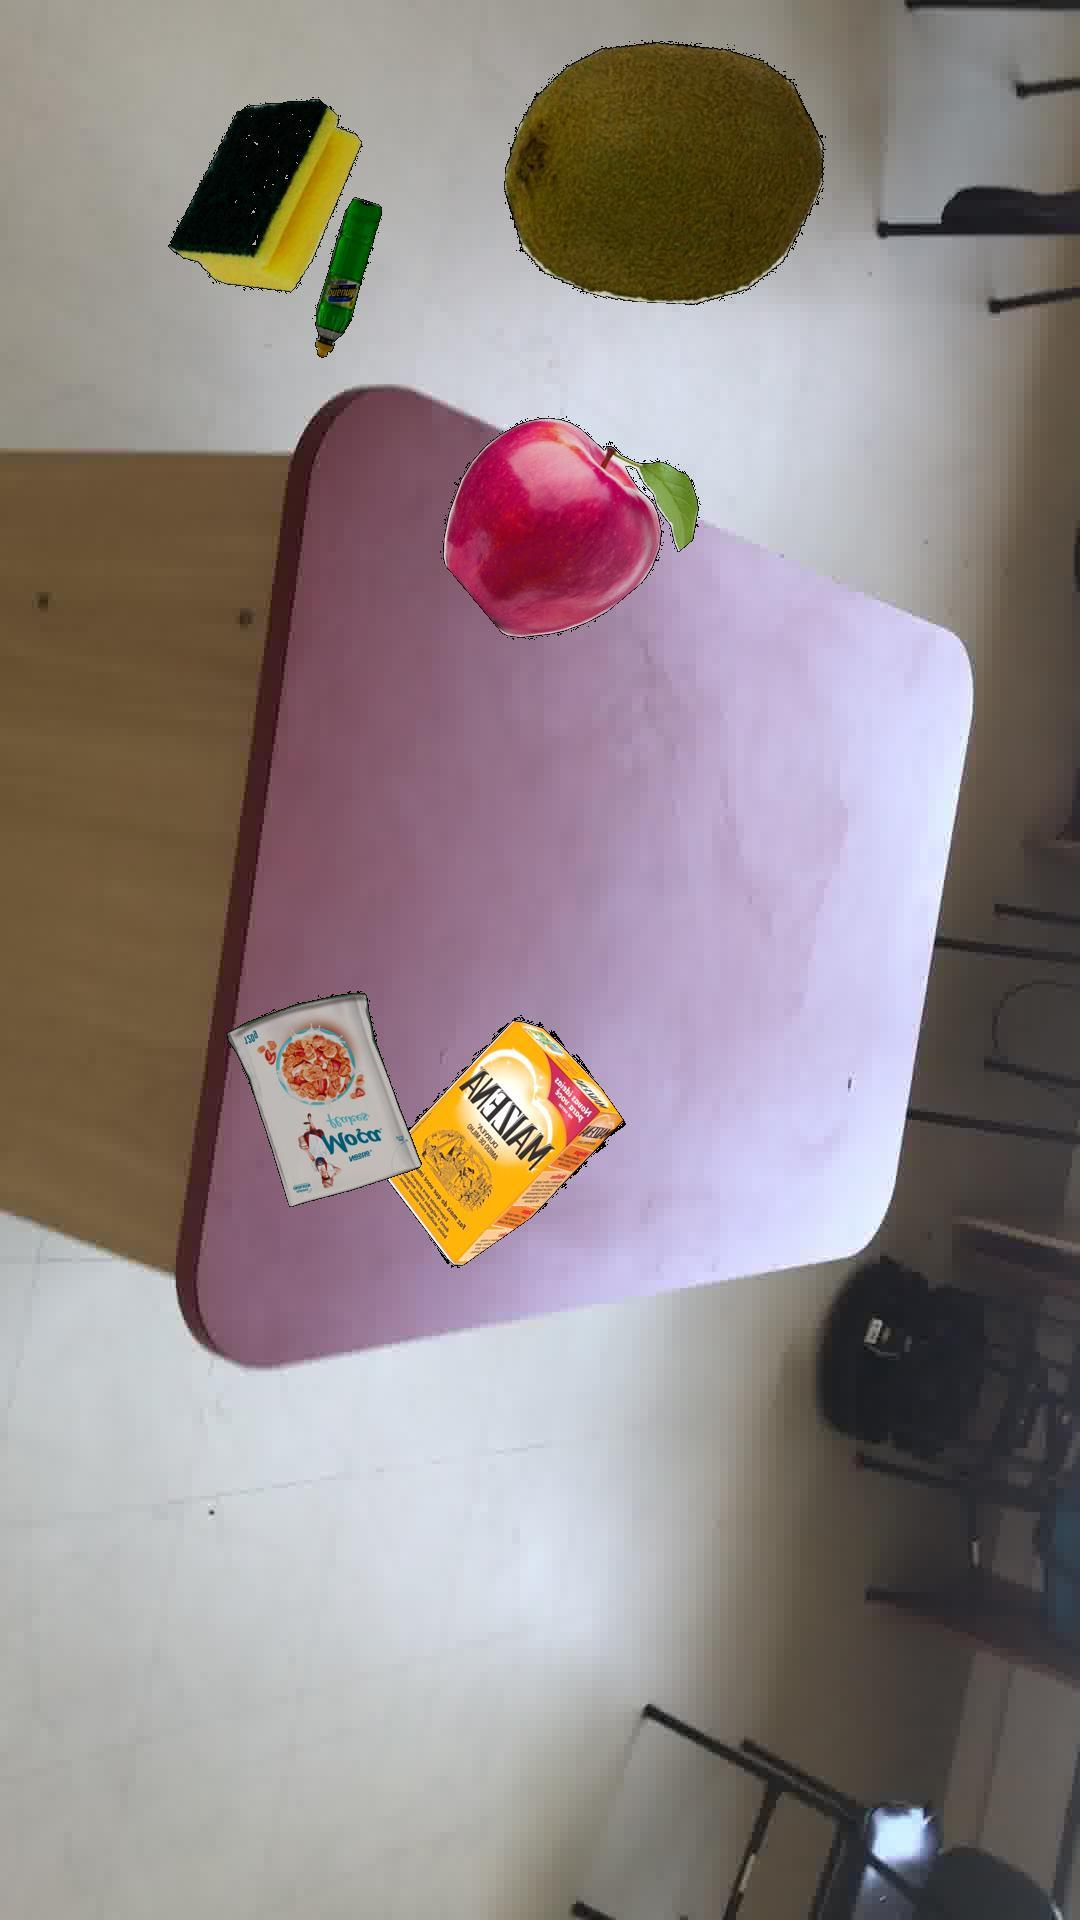apple: (442, 417, 698, 637)
cleaner: (313, 195, 381, 356)
corn flakes: (224, 989, 421, 1205)
kiwi: (502, 38, 824, 303)
sponge: (166, 98, 361, 291)
